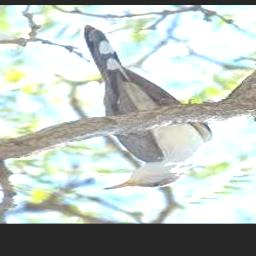Cuckoo: (82, 25, 213, 190)
